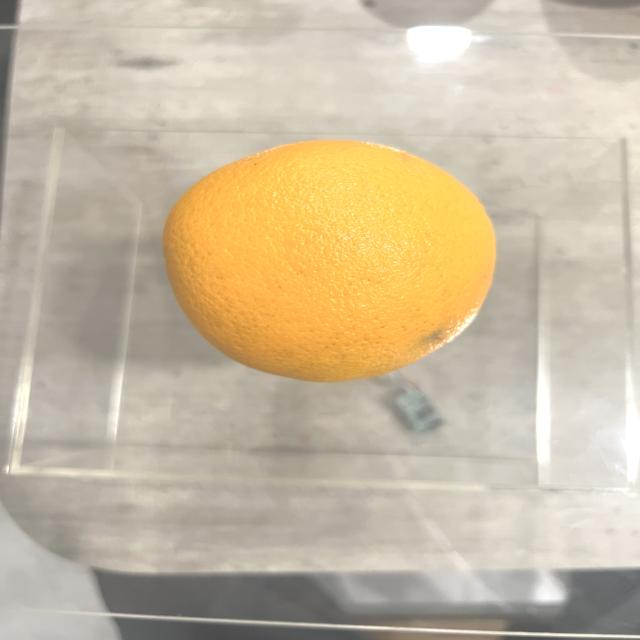navel orange: (163, 142, 500, 374)
